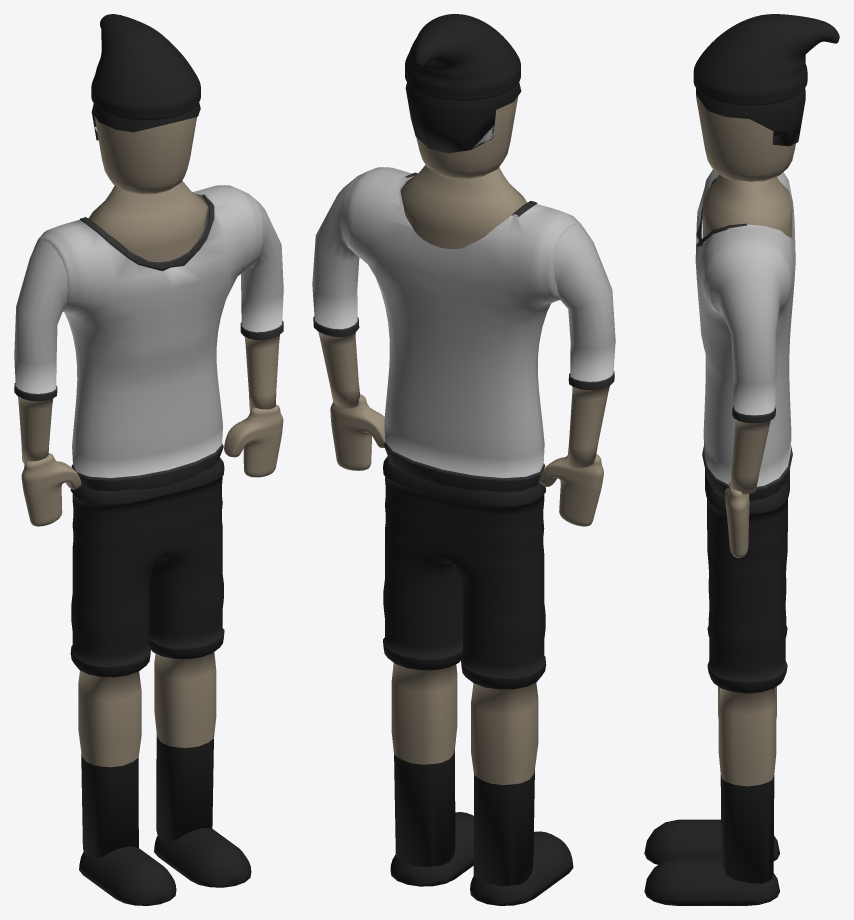
File: ronaldo.dae
3 renders of one model, left to right at view 1: azimuth 30°, elevation 25°; view 2: azimuth 150°, elevation 25°; view 3: azimuth 270°, elevation 25°, orthographic. The views are drawn at different scales.
Visible parts, largest first — view 1: Hair; view 2: Hair; view 3: Hair.
Boxes of the visible parts, x1=… form: Hair: x1=14, y1=14, x2=283, y2=905; Hair: x1=312, y1=14, x2=615, y2=905; Hair: x1=644, y1=14, x2=839, y2=905.
Bounding box in the file's own units: 44.4 × 128 × 26.58.
